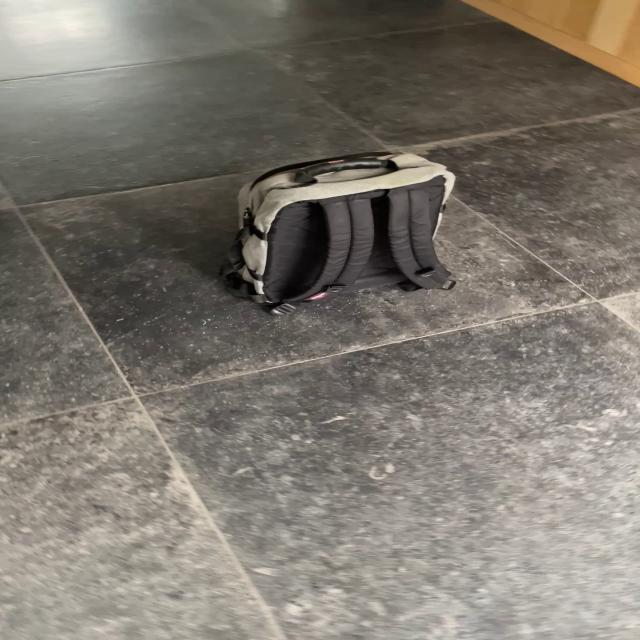backpack: (209, 145, 462, 305)
